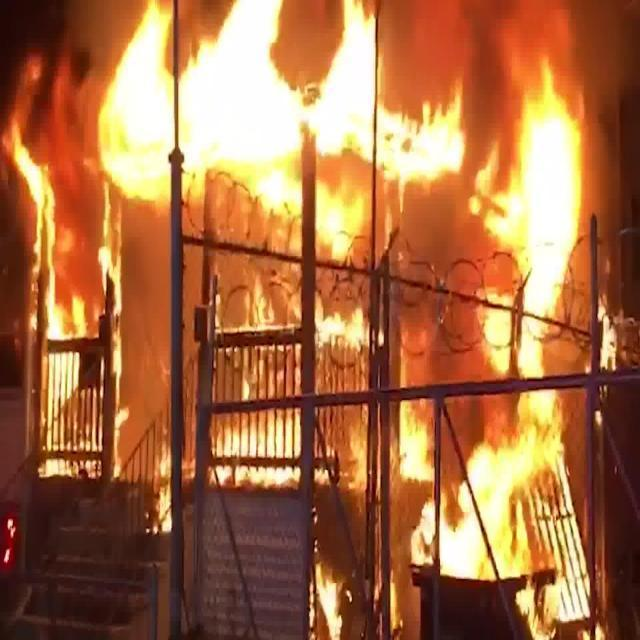Fire: (84, 1, 450, 262), (333, 394, 606, 640), (6, 72, 138, 509), (460, 56, 608, 404)
